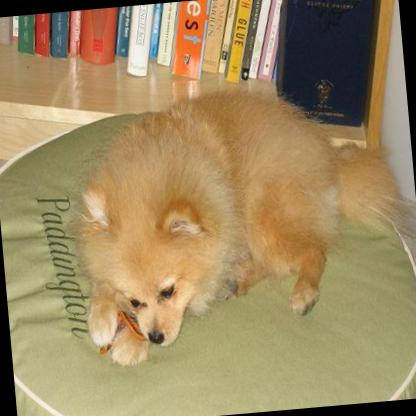Pomeranian: (66, 74, 412, 370)
